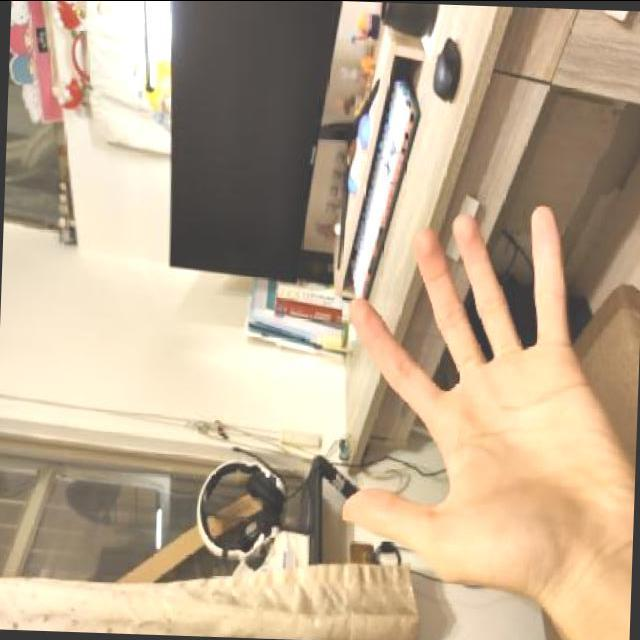hand: (329, 202, 632, 596)
